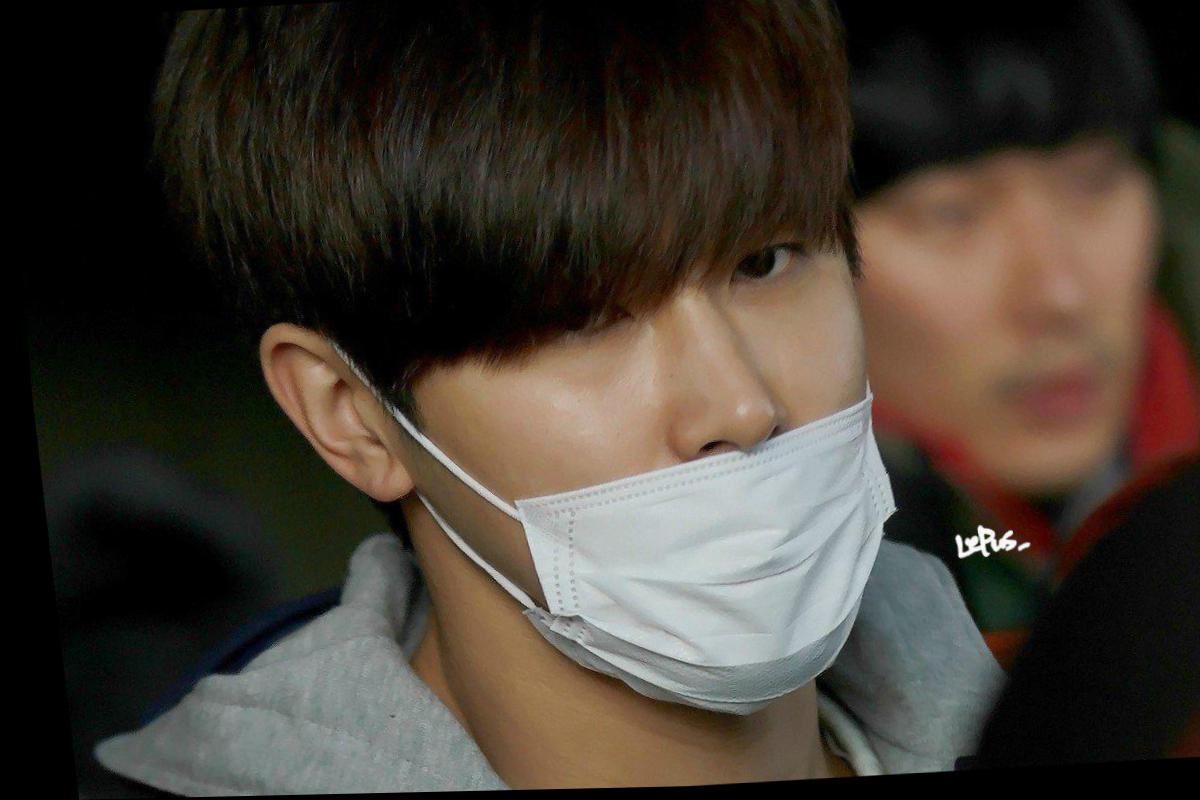NONE: (842, 140, 1173, 507)
WRONG: (409, 159, 903, 735)
